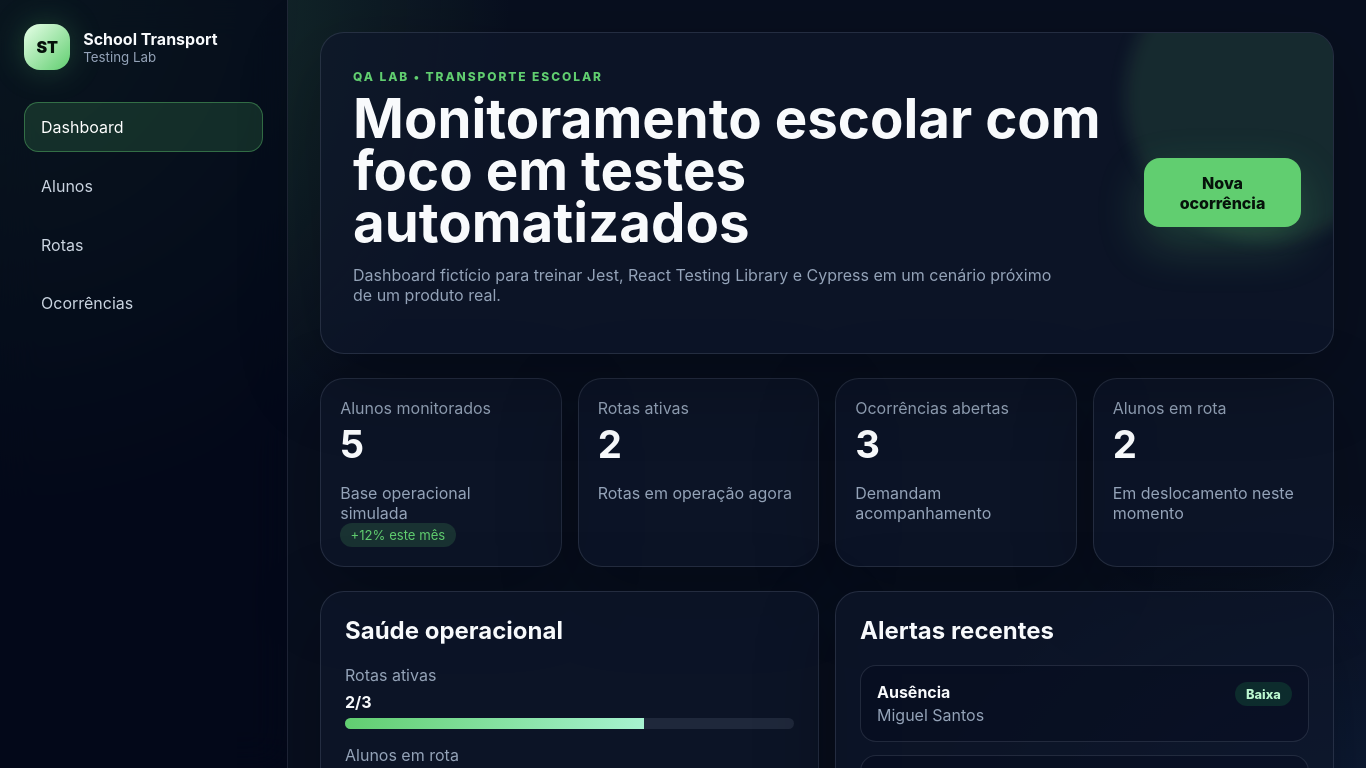
Test: Students › searches a student by name
Click the button with test id "nav-students": (144, 186) [24,161,263,210]
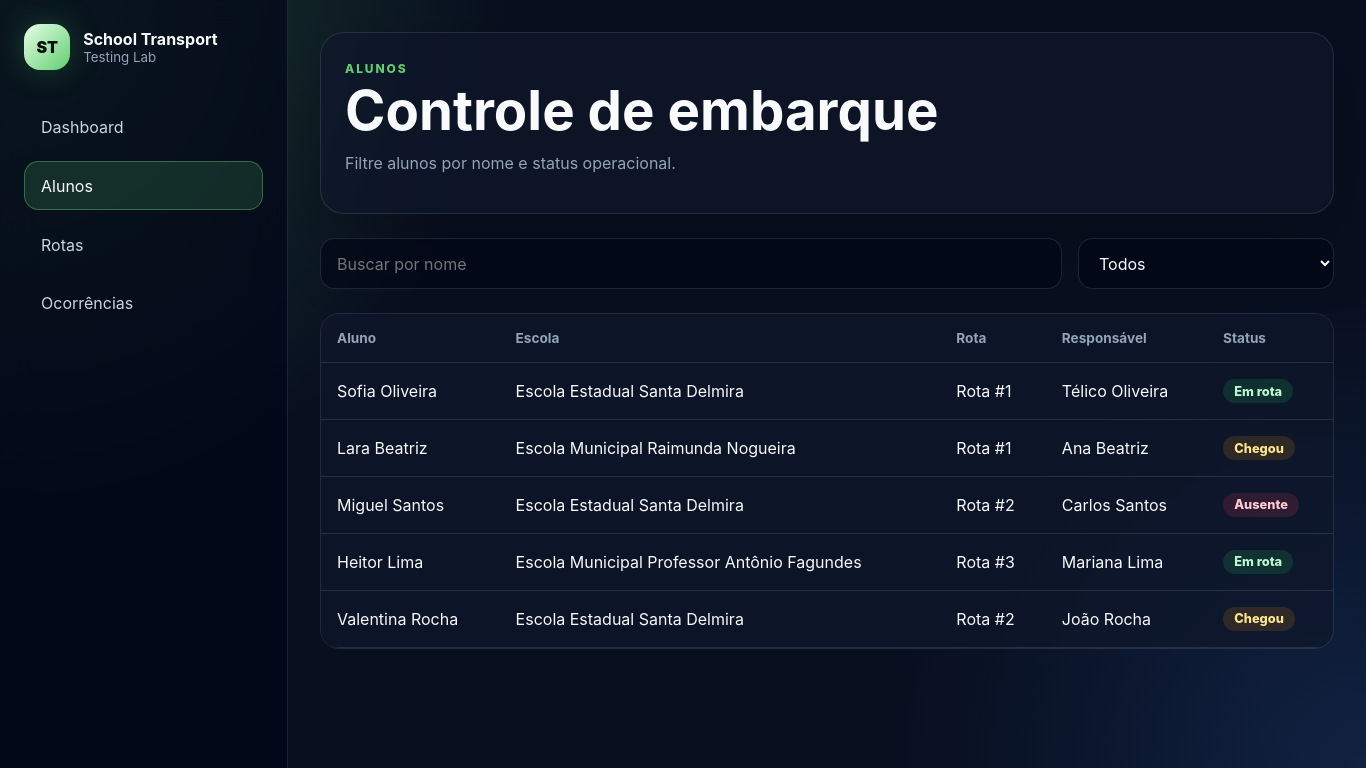
In the search field with test id "student-search": (691, 264) [320,238,1062,289], type "Sofia"
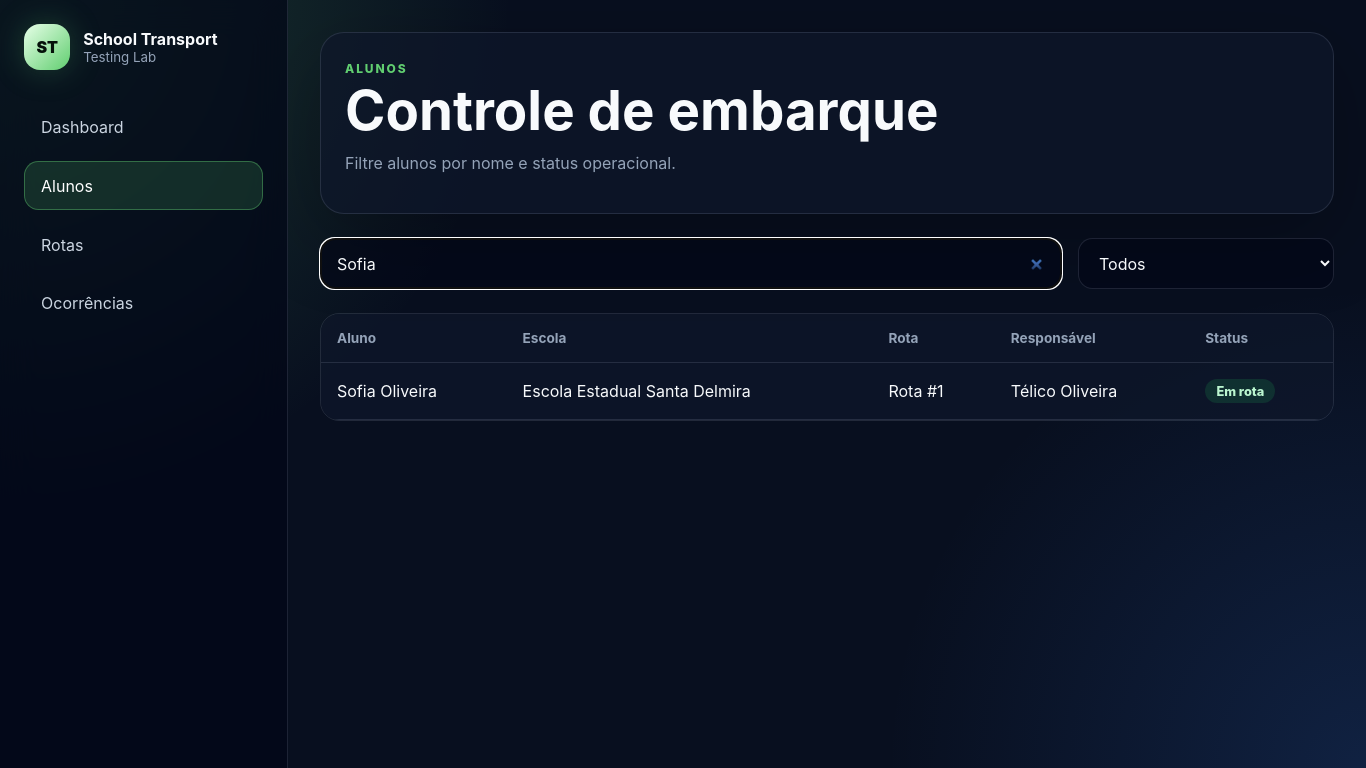
Expected: the text "Sofia Oliveira" is shown, [321,363,507,420]
Expected: the text "Miguel Santos" is gone
